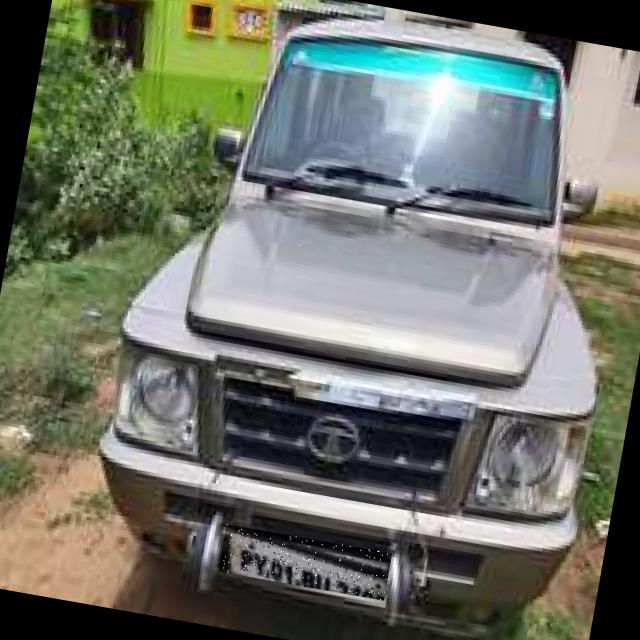Plate: (219, 525, 393, 601)
